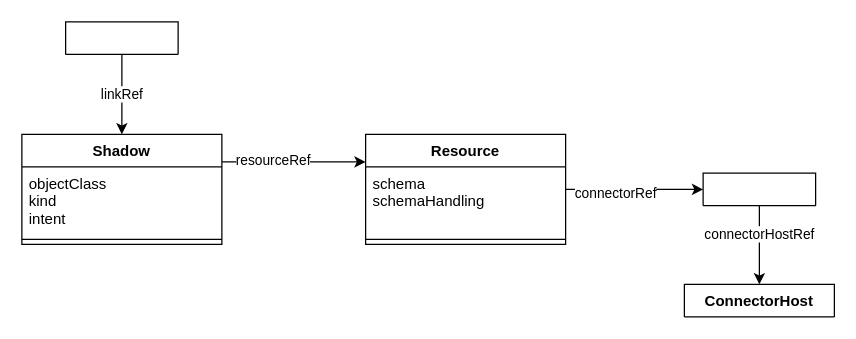
Image size: 856x339. Some labels were removed from this diagram. The shapes that lost their labels are listed below. From the top down, each one's box as (x1, y1, x2, y2) in pixels, then its label:
(64, 21, 178, 54): User
(702, 172, 816, 206): Connector
